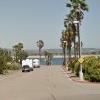Palm tree: (56, 0, 87, 58)
